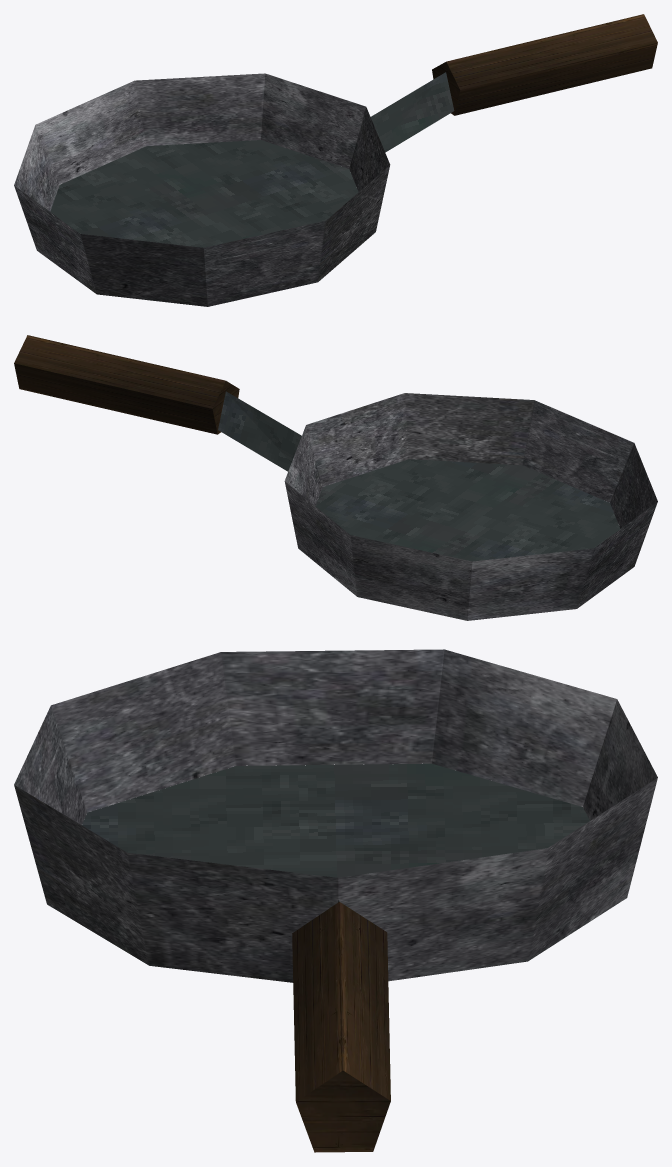
Rendered from ITMI_PAN.glb.
3 renders of one model, top to bottom at view 1: azimuth 30°, elevation 25°; view 2: azimuth 150°, elevation 25°; view 3: azimuth 270°, elevation 25°, orthographic. The views are drawn at different scales.
Parts seen in each view (by area): view 1: ITMI_PAN; view 2: ITMI_PAN; view 3: ITMI_PAN.
Boxes of the visible parts, x1=… form: ITMI_PAN: x1=14, y1=14, x2=657, y2=306; ITMI_PAN: x1=14, y1=335, x2=657, y2=620; ITMI_PAN: x1=14, y1=649, x2=657, y2=1152.
Bounding box in the file's own units: 0.6039 × 0.1127 × 0.3282.
3 materials, 3 textured.
